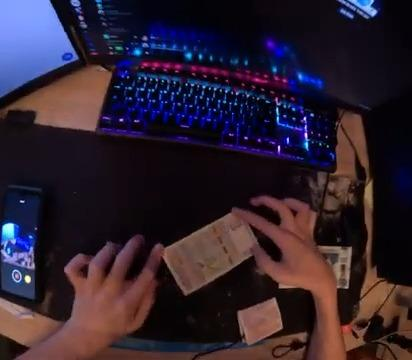50leva: (162, 213, 258, 296)
